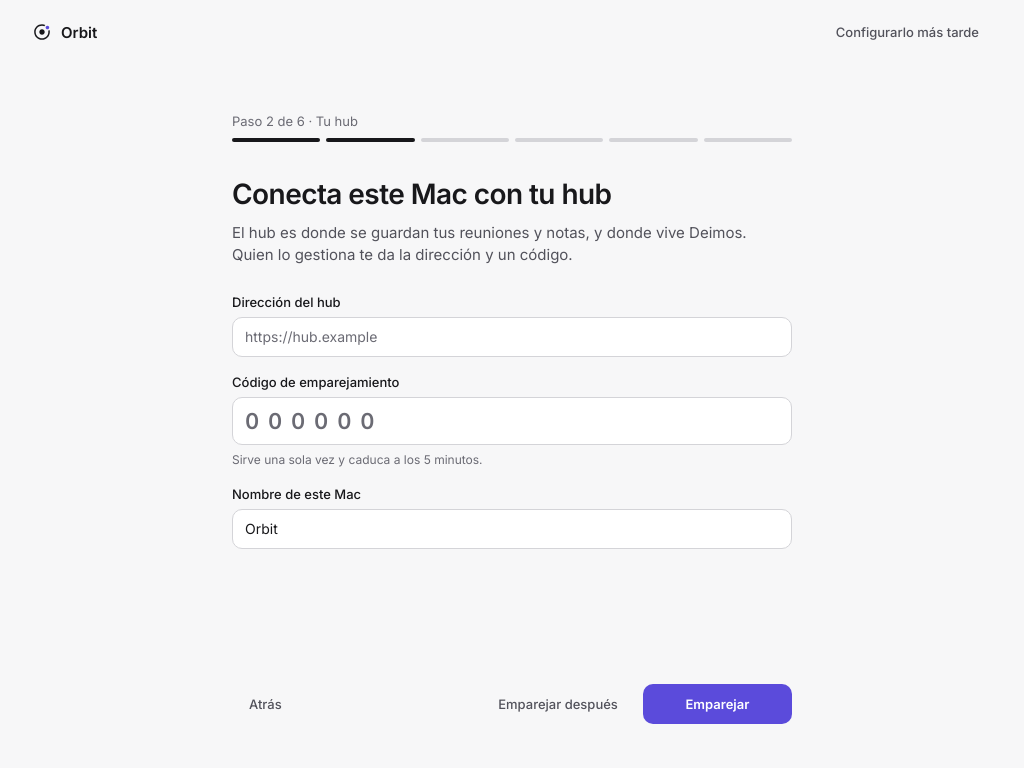
it: pairing with the hub › a code without six digits is not sent: the field says how many it has
The image size is (1024, 768).
In the field labelled "Código de emparejamiento": (512, 421) [232, 397, 792, 445], type "48291"
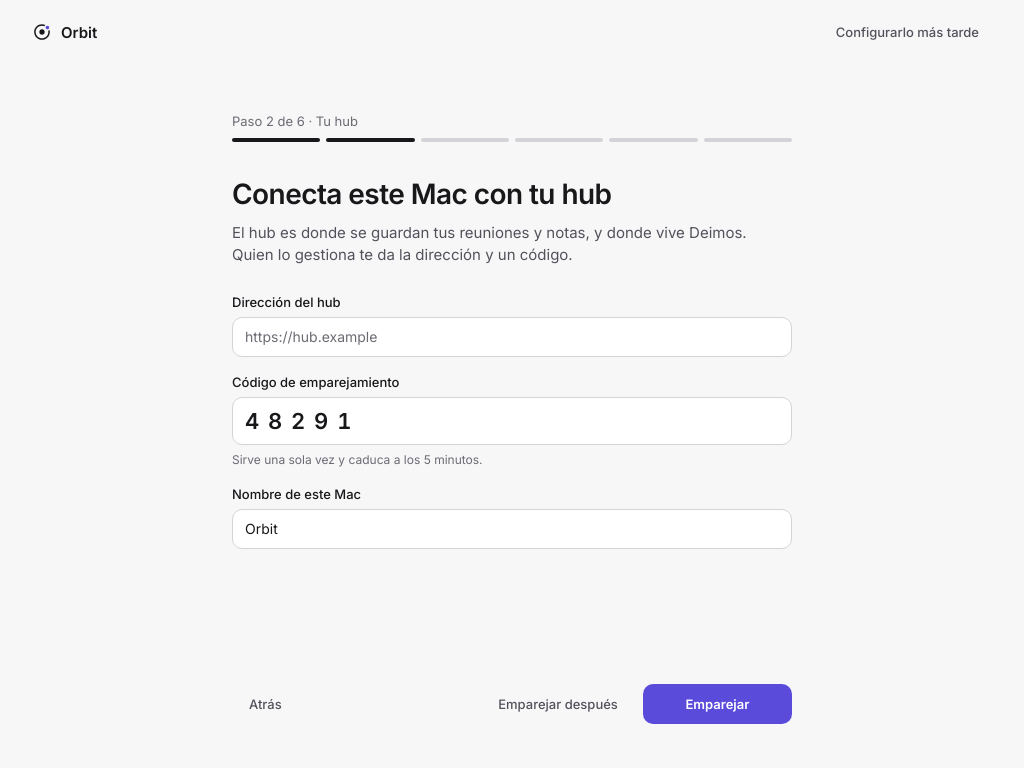
Click the button "Emparejar": (717, 704) [643, 684, 792, 724]
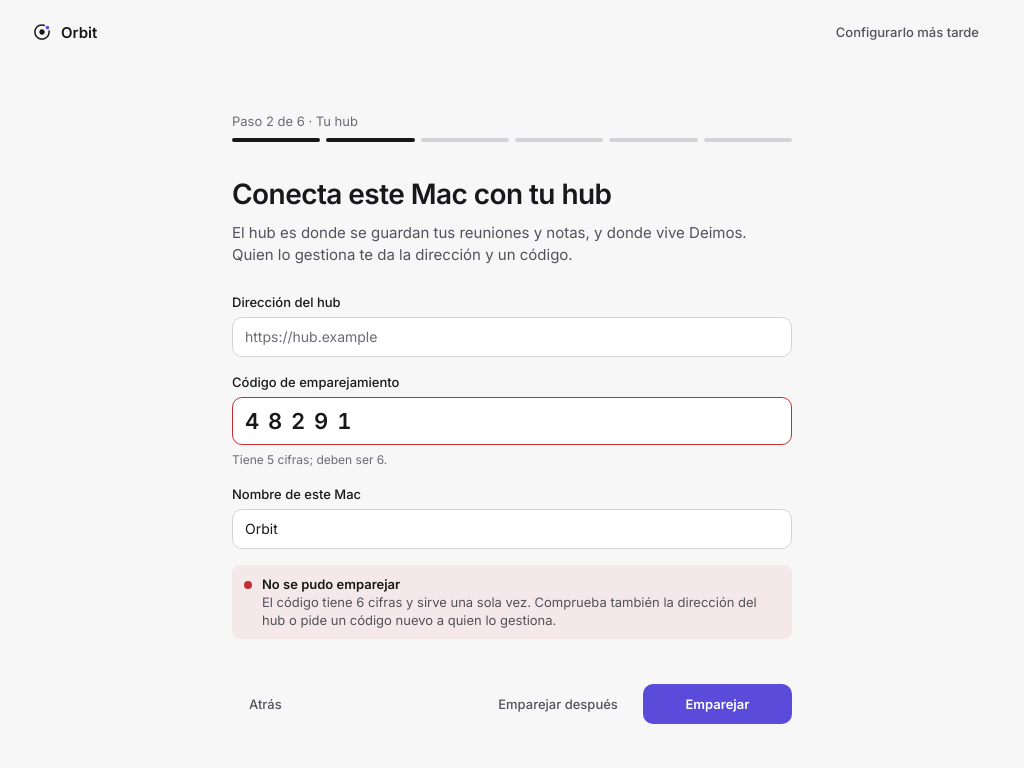
Replace the text in the field labelled "Código de emparejamiento" with "482913": (512, 421) [232, 397, 792, 445]
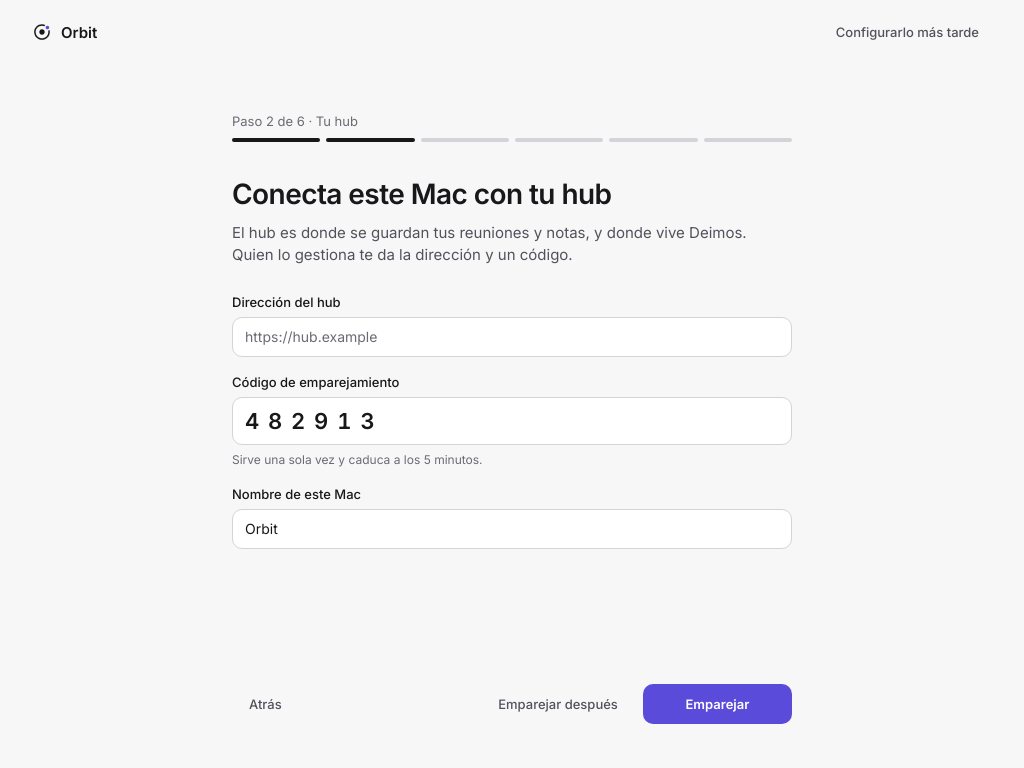
Result: the message is gone
